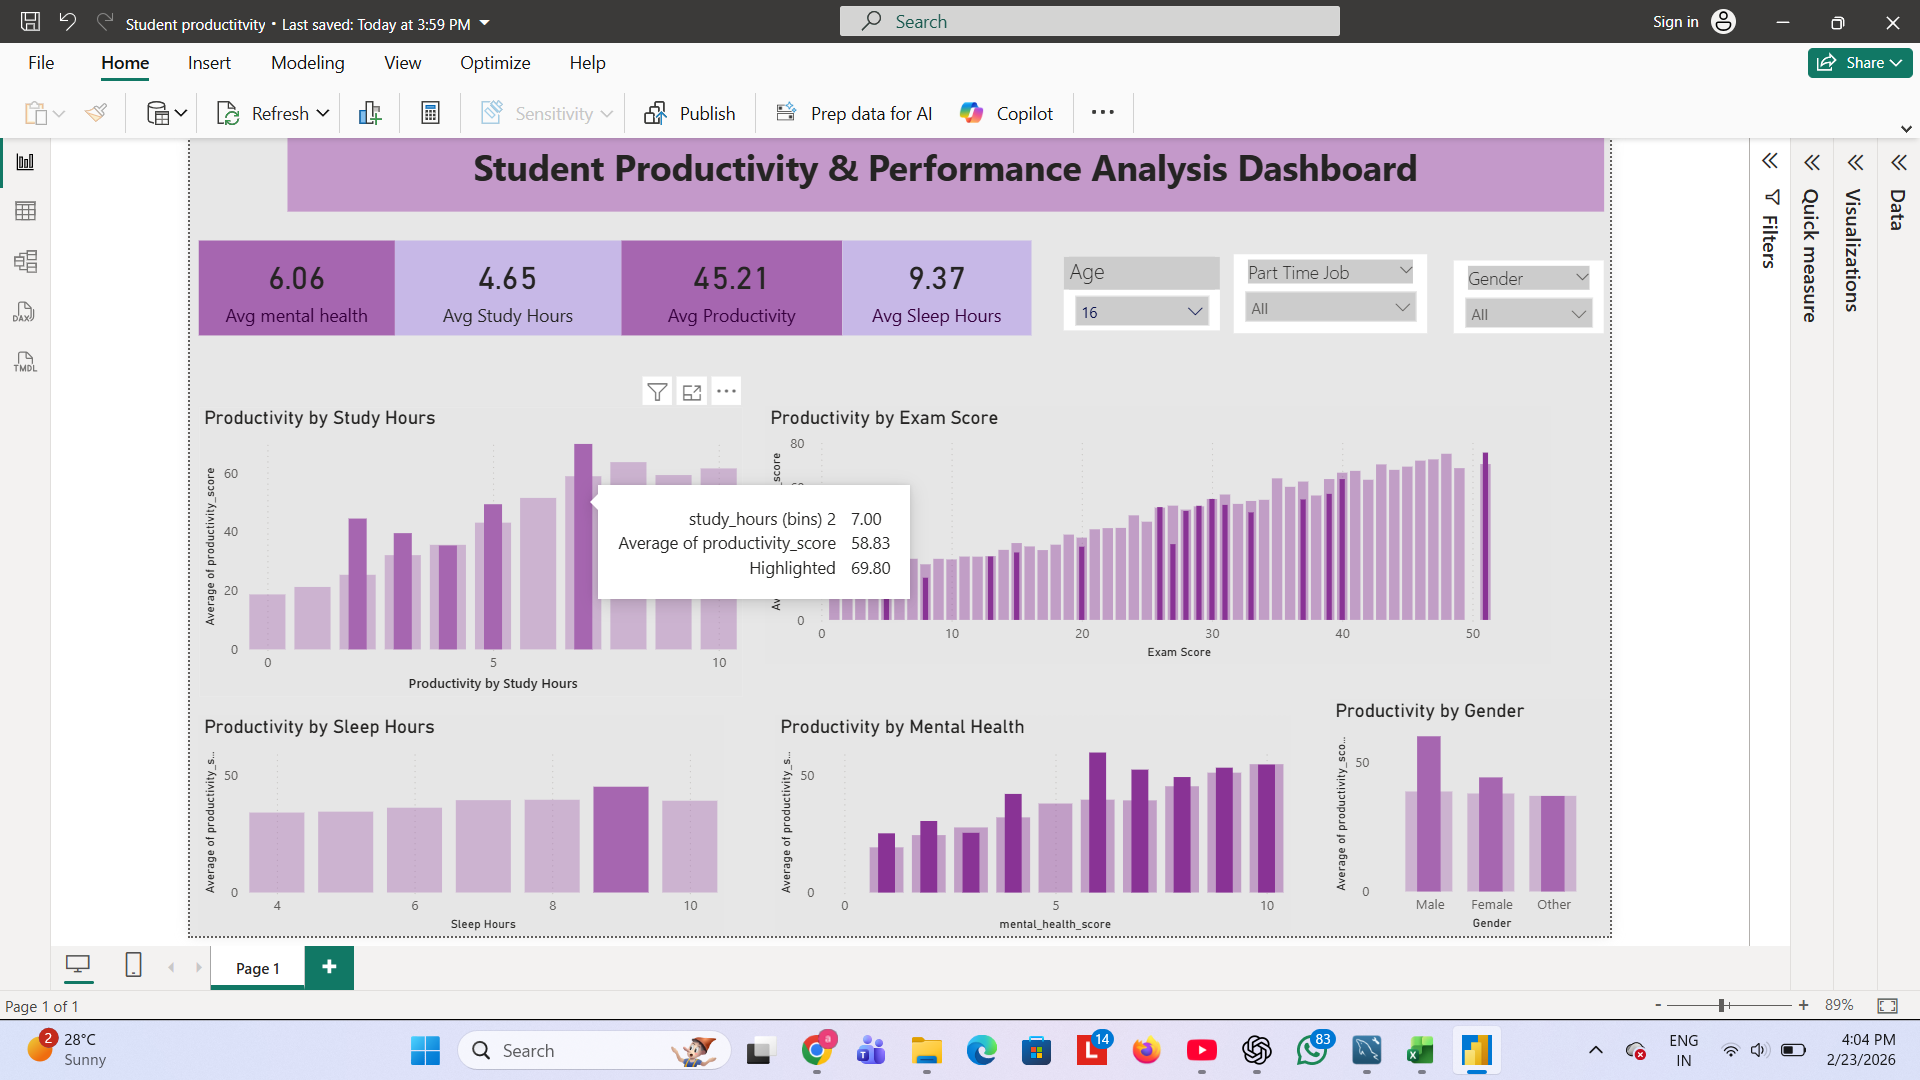

The page's visual inventory and layout, read from the dashboard file:
{"tool":"powerbi","page":{"name":"Page 1","canvas":[1280,720],"ordinal":0},"visuals":[{"type":"card","fields":{"Values":["student_productivity_dataset.Avg mental health"]},"box":[7.9,92.4,177,85.7],"z":0},{"type":"card","fields":{"Values":["student_productivity_dataset.Avg Productivity"]},"box":[388.9,92.4,199.5,85.7],"z":1},{"type":"card","fields":{"Values":["student_productivity_dataset.Avg Sleep Hours"]},"box":[588.4,92.4,170.2,85.7],"z":2},{"type":"card","fields":{"Values":["student_productivity_dataset.Avg Study Hours"]},"box":[184.8,92.4,204,85.7],"z":3},{"type":"clusteredColumnChart","title":"Productivity by Study Hours","fields":{"Category":["student_productivity_dataset.study_hours (bins) 2"],"Y":["Avg(student_productivity_dataset.productivity_score)"]},"box":[7.5,242,490.3,262],"z":4},{"type":"clusteredColumnChart","title":"Productivity by Sleep Hours","fields":{"Category":["student_productivity_dataset.sleep_hours (bins)"],"Y":["Avg(student_productivity_dataset.productivity_score)"]},"box":[7.5,520.2,472.8,199.6],"z":5},{"type":"clusteredColumnChart","title":"Productivity by Mental Health","fields":{"Category":["student_productivity_dataset.mental_health_score"],"Y":["Avg(student_productivity_dataset.productivity_score)"]},"box":[527.7,520.2,465.3,199.6],"z":6},{"type":"clusteredColumnChart","title":"Productivity by Gender","fields":{"Y":["Avg(student_productivity_dataset.productivity_score)"],"Category":["student_productivity_dataset.gender"]},"box":[1028,506.5,252,213.3],"z":7},{"type":"clusteredColumnChart","title":"Productivity by Exam Score","fields":{"Y":["Avg(student_productivity_dataset.productivity_score)"],"Category":["student_productivity_dataset.exam_score (bins)"]},"box":[518.5,242.3,709,232.2],"z":8},{"type":"slicer","title":"Age","fields":{"Values":["student_productivity_dataset.age"]},"box":[787.9,107.1,140.9,66.5],"z":9},{"type":"slicer","fields":{"Values":["student_productivity_dataset.part_time_job"]},"box":[941.1,104.8,174.7,71],"z":10},{"type":"slicer","fields":{"Values":["student_productivity_dataset.gender"]},"box":[1139.5,110.5,135.3,65.4],"z":11},{"type":"textbox","box":[87.9,0,1186.9,66.5],"z":13}]}

Visuals, with their boxes on the page's 1280x720 design canvas (x1, y1, x2, y2). These are canvas units, not pixel positions in the 1920x1080 screenshot, which may show the page scaled, cropped or inside an application window:
card - student_productivity_dataset.Avg mental health: (8,92,185,178)
card - student_productivity_dataset.Avg Productivity: (389,92,588,178)
card - student_productivity_dataset.Avg Sleep Hours: (588,92,759,178)
card - student_productivity_dataset.Avg Study Hours: (185,92,389,178)
"Productivity by Study Hours" clusteredColumnChart: (8,242,498,504)
"Productivity by Sleep Hours" clusteredColumnChart: (8,520,480,720)
"Productivity by Mental Health" clusteredColumnChart: (528,520,993,720)
"Productivity by Gender" clusteredColumnChart: (1028,506,1280,720)
"Productivity by Exam Score" clusteredColumnChart: (518,242,1228,474)
"Age" slicer: (788,107,929,174)
slicer - student_productivity_dataset.part_time_job: (941,105,1116,176)
slicer - student_productivity_dataset.gender: (1140,110,1275,176)
textbox: (88,0,1275,66)
